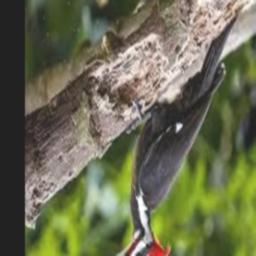Woodpecker: (104, 12, 240, 256)
